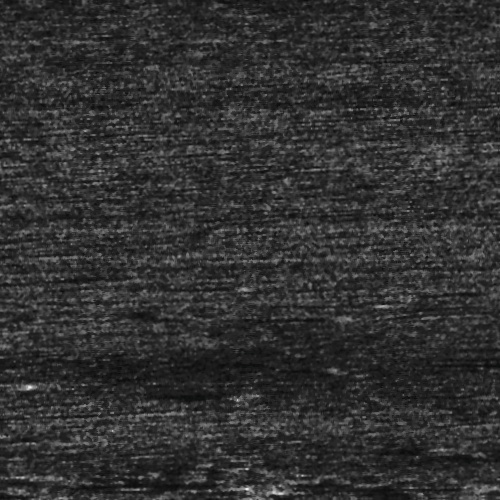object: (218, 389, 271, 398), (0, 378, 48, 383), (218, 483, 249, 488)
shadow: (412, 356, 500, 369), (127, 483, 233, 488), (191, 389, 244, 398), (459, 343, 500, 350)
